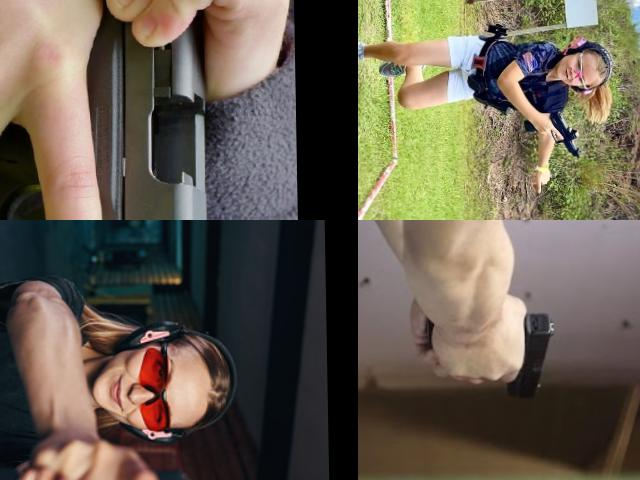handgun: (0, 0, 220, 220), (419, 306, 558, 405), (520, 108, 584, 161)
